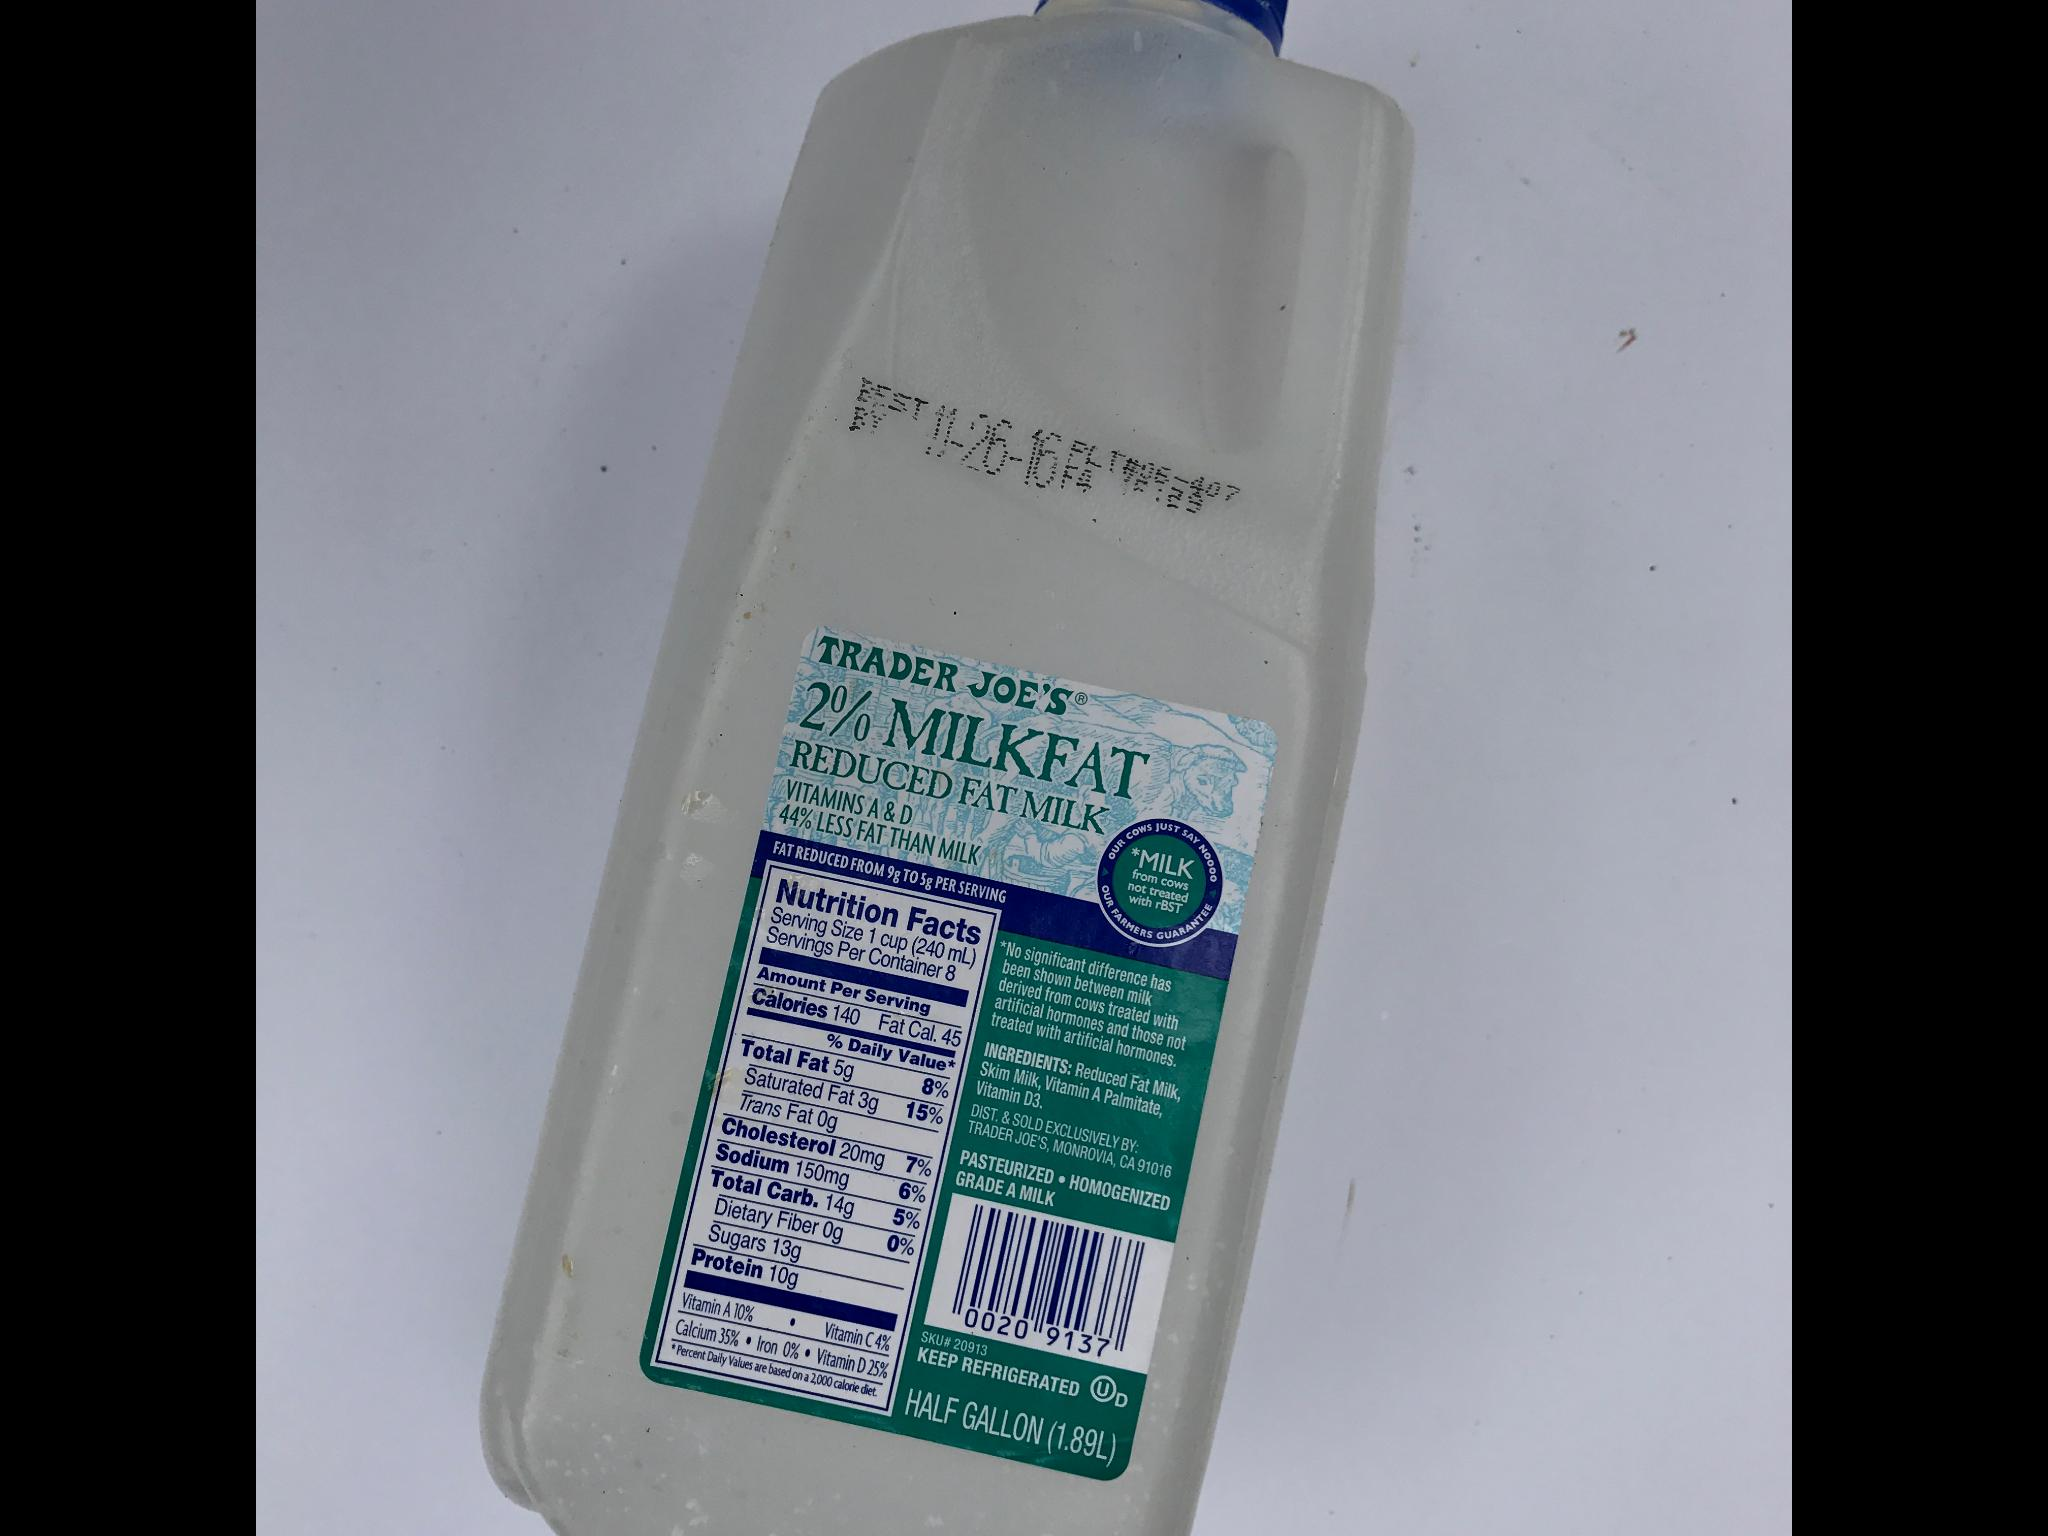Plastic: (468, 0, 1426, 1534)
